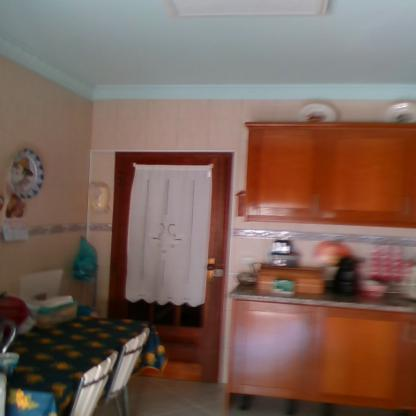door: (118, 159, 220, 382)
knob: (206, 262, 216, 272)
